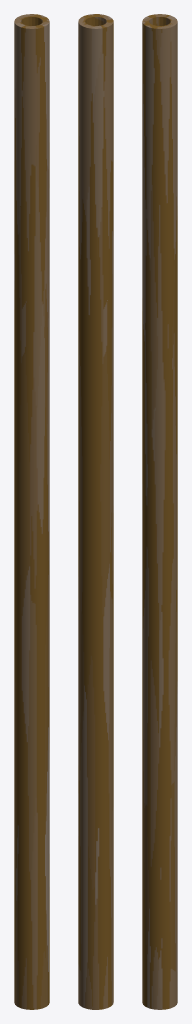
3 renders of one model, left to right at view 1: azimuth 90°, elevation 25°; view 2: azimuth 150°, elevation 25°; view 3: azimuth 270°, elevation 25°, orthographic.
Visible parts, largest first — view 1: BeaconSegment.005; view 2: BeaconSegment.005; view 3: BeaconSegment.005.
Part boxes in pixels (x1,y1,x2,y2): BeaconSegment.005: (14, 14, 49, 1009); BeaconSegment.005: (78, 14, 113, 1009); BeaconSegment.005: (142, 14, 177, 1009).
Bounding box in the file's own units: 0.0716 × 2.19 × 0.0716.
Materials: 1 (1 with a texture image).
